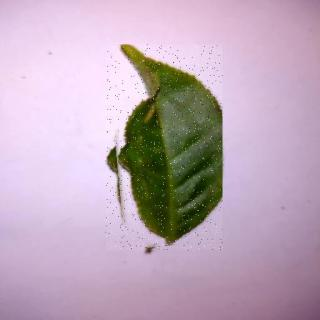Bird Eye Spot: (107, 46, 224, 252)
